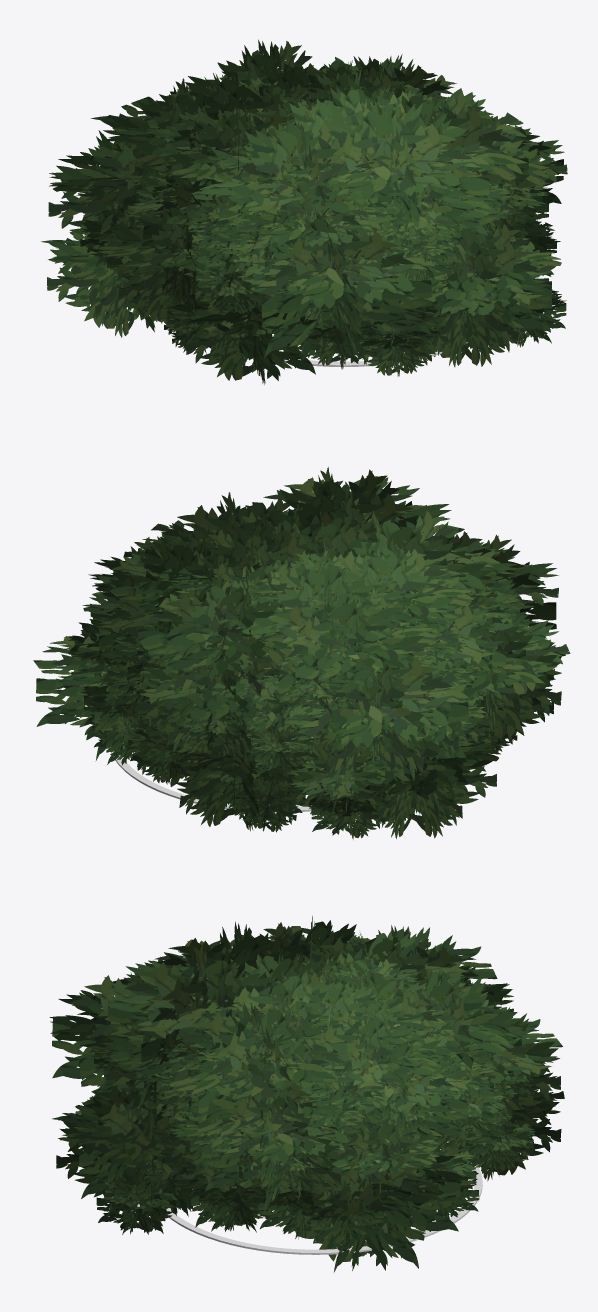
The model's file is MangoV2.fbx.
3 views of the same model, one above another, from view 1: azimuth 30°, elevation 25°; view 2: azimuth 150°, elevation 25°; view 3: azimuth 270°, elevation 25° (orthographic).
Parts seen in each view (by area): view 1: MangoFar, MangoCanopy_2, MangoCanopy_1, MangoCanopy_3, MangoCanopy_4; view 2: MangoFar, MangoCanopy_3, MangoCanopy_4, MangoCanopy_2, MangoCanopy_1, RoomRing; view 3: MangoFar, MangoCanopy_1, MangoCanopy_4, MangoCanopy_3, RoomRing.
Boxes of the visible parts, x1,y1,x2,y2 form: MangoFar: (41,39,567,384); MangoCanopy_2: (139,122,440,376); MangoCanopy_1: (330,88,566,360); MangoCanopy_3: (79,77,322,324); MangoCanopy_4: (261,57,441,106); MangoFar: (33,467,570,838); MangoCanopy_3: (173,549,497,839); MangoCanopy_4: (67,550,291,784); MangoCanopy_2: (329,531,546,751); MangoCanopy_1: (148,508,376,567); RoomRing: (110,747,311,812); MangoFar: (49,915,564,1272); MangoCanopy_1: (87,980,351,1239); MangoCanopy_4: (279,984,535,1247); MangoCanopy_3: (293,936,538,1148); RoomRing: (166,1141,482,1254).
Size of the model in its own units: 1023 by 456 by 980.
2 materials, 1 textured.
